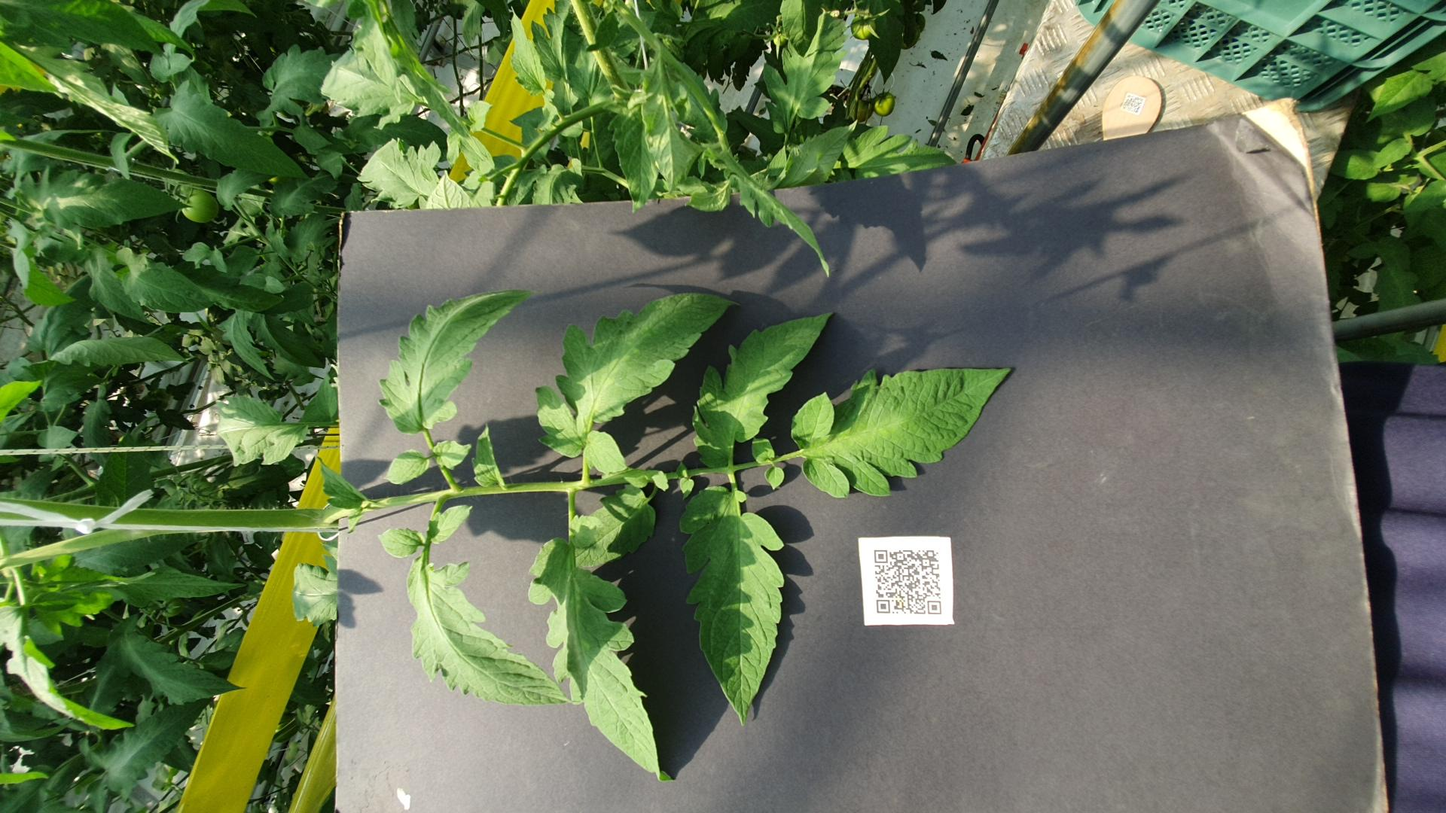Healthy: (54, 297, 492, 379), (633, 300, 926, 415), (192, 214, 455, 324), (561, 445, 794, 569), (156, 381, 581, 441), (673, 211, 933, 297), (613, 389, 890, 468), (1124, 86, 1302, 173), (710, 11, 849, 110), (188, 59, 356, 139), (1032, 7, 1154, 110), (37, 56, 208, 121), (1207, 428, 1438, 476), (1342, 0, 1446, 92), (1114, 465, 1226, 538), (1214, 180, 1362, 232), (437, 320, 584, 369), (1063, 342, 1294, 371), (616, 121, 743, 173), (1107, 431, 1233, 482), (890, 65, 1006, 120), (1075, 199, 1204, 248), (898, 5, 1053, 44), (1240, 147, 1368, 192), (892, 96, 982, 159), (366, 62, 440, 138), (789, 138, 890, 184), (768, 121, 895, 153), (1228, 767, 1326, 806), (1275, 285, 1435, 308), (1053, 150, 1144, 190), (329, 163, 445, 190), (540, 177, 636, 207), (1341, 438, 1446, 463), (1073, 121, 1145, 155), (577, 265, 695, 285), (598, 328, 682, 352), (478, 240, 550, 266), (585, 215, 649, 241), (454, 212, 509, 239), (700, 176, 786, 191), (613, 242, 664, 265)
